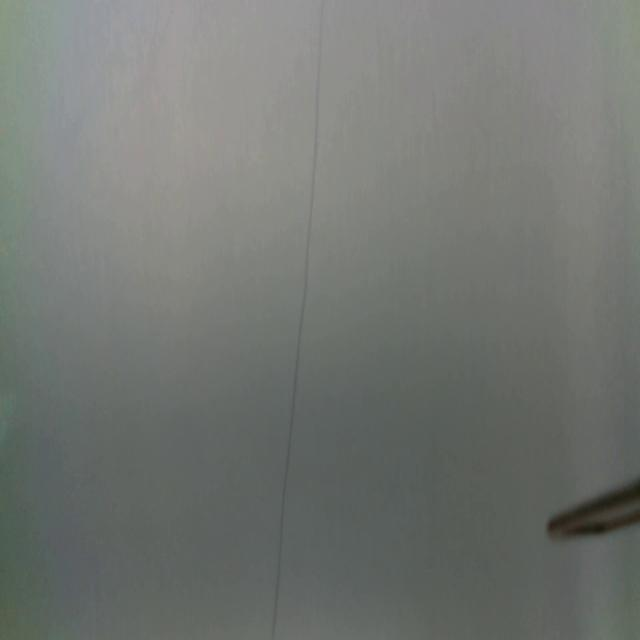crease: (271, 2, 326, 640)
